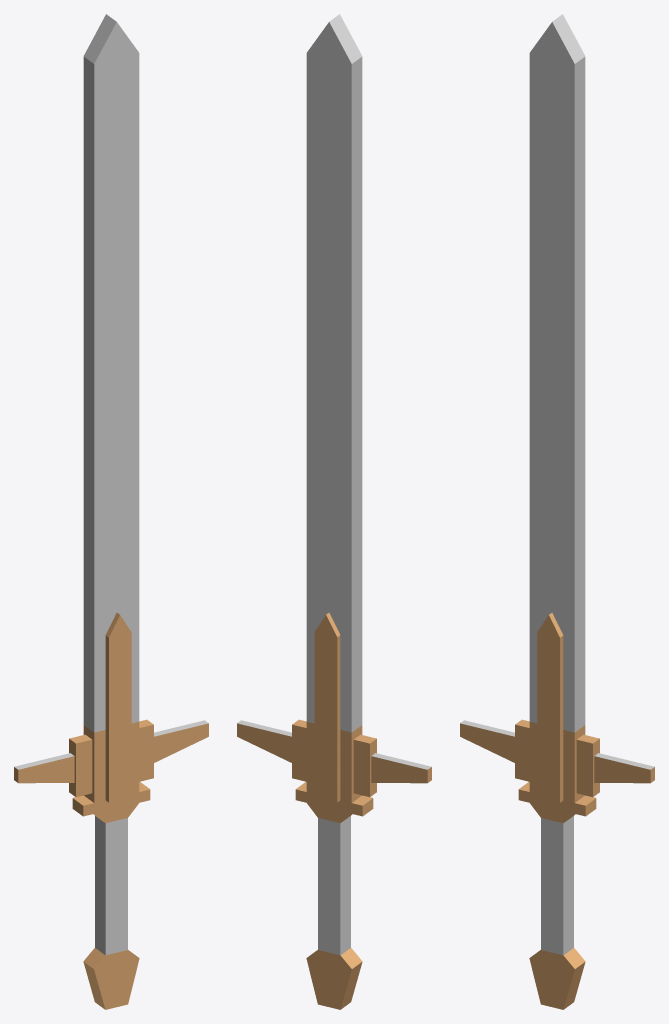
File: Good Sword.fbx
The picture shows the model from 3 angles, left to right: view 1: azimuth 30°, elevation 25°; view 2: azimuth 150°, elevation 25°; view 3: azimuth 330°, elevation 25°; orthographic projection.
Parts seen in each view (by area): view 1: Cube; view 2: Cube; view 3: Cube.
Part boxes in pixels (x1,y1,x2,y2): Cube: [14, 14, 208, 1009]; Cube: [237, 14, 431, 1009]; Cube: [460, 14, 654, 1009].
Size of the model in its own units: 93.2 by 460 by 14.54.
